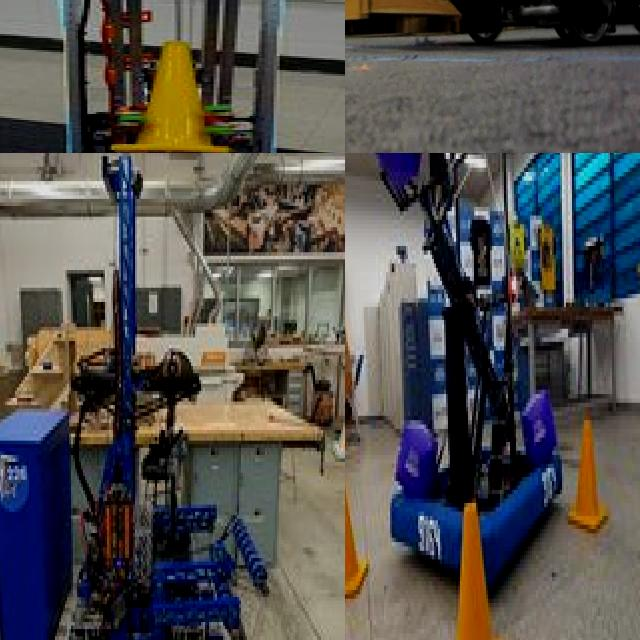FRC-Robots: (0, 153, 263, 640), (345, 153, 594, 590), (0, 0, 345, 153), (346, 0, 640, 74)
